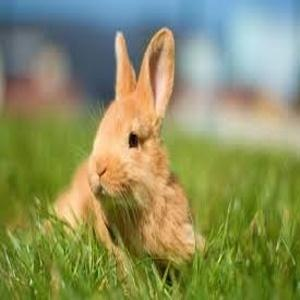rabbit: (70, 27, 197, 277)
